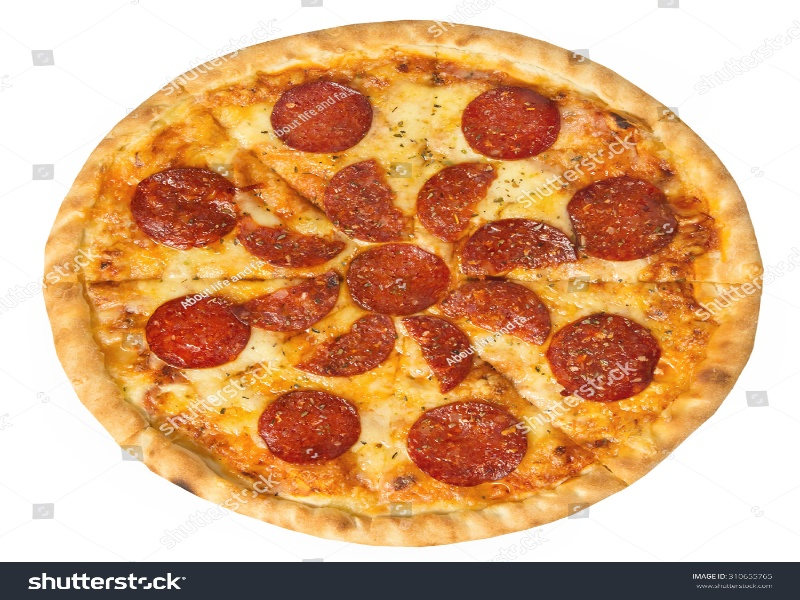pepperonis: (409, 405, 546, 484), (548, 312, 660, 403), (255, 384, 365, 474), (314, 156, 420, 243), (133, 163, 240, 248), (565, 184, 682, 260), (150, 287, 255, 369), (461, 80, 566, 160), (351, 239, 456, 317), (275, 75, 375, 156), (461, 214, 576, 279), (298, 316, 406, 384), (237, 216, 346, 268)
